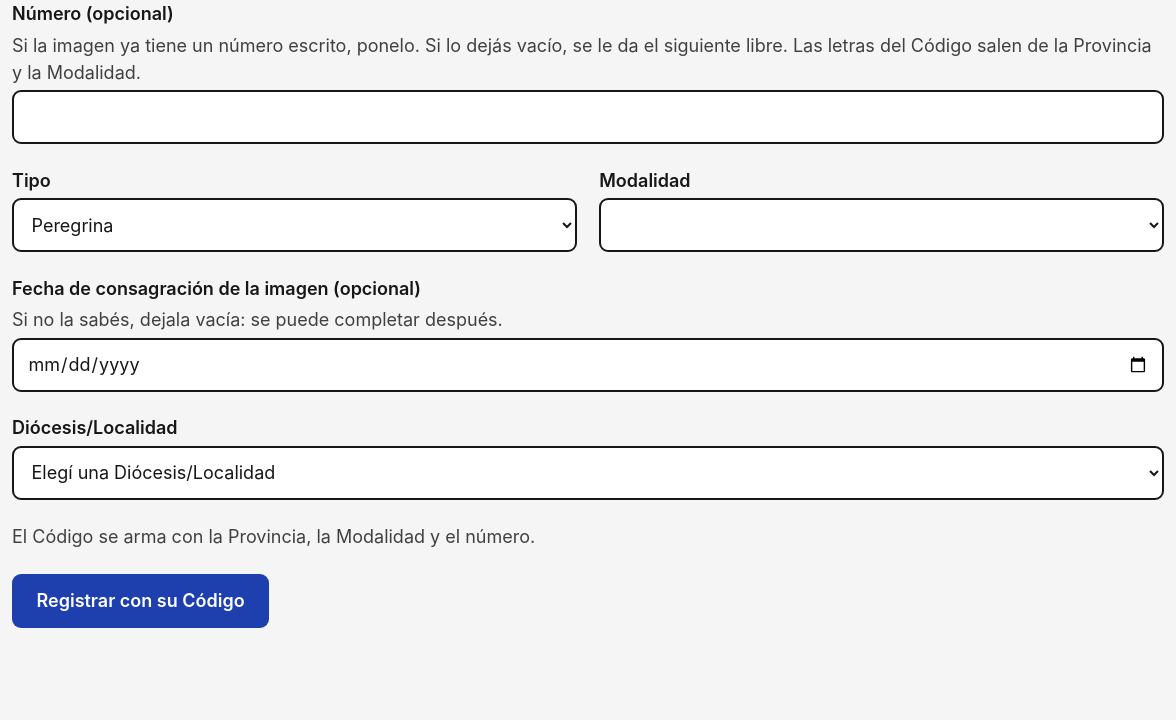
el alta de una imagen nueva › no pide numeración anterior, y sin número no manda ninguno
Select "Villa María" in the dropdown labelled "Diócesis/Localidad" at coordinates (588, 472), box [12,446,1164,500]
(page scrolled)
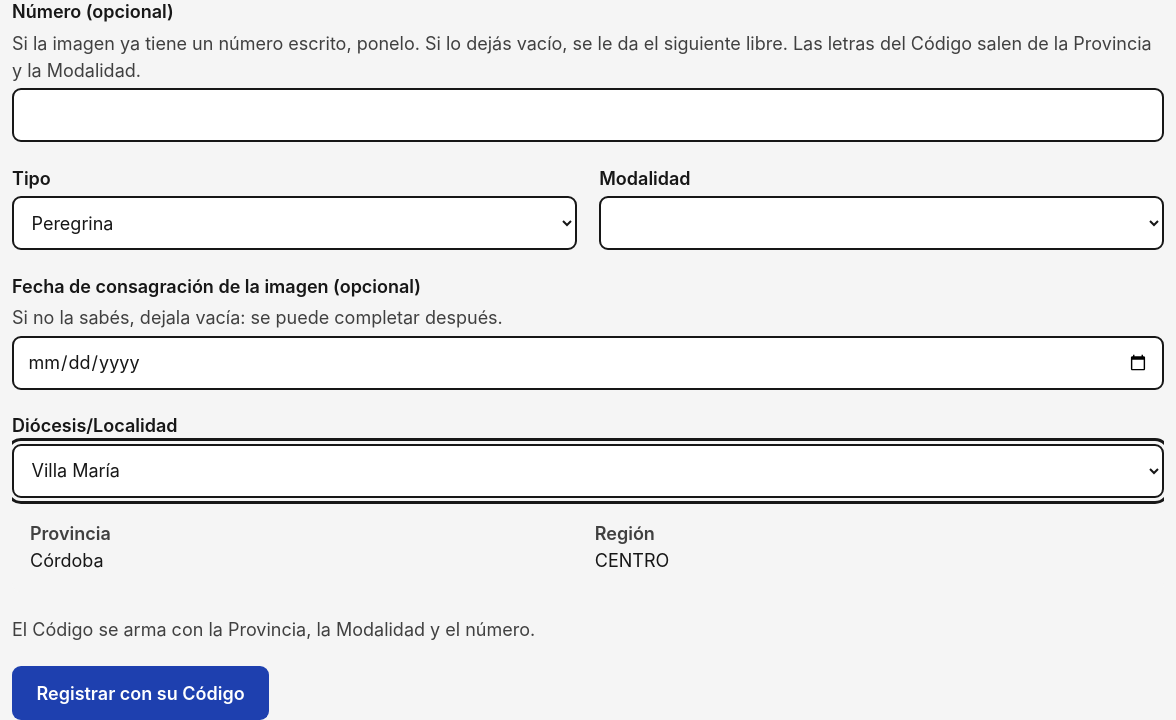
Click the button "Registrar con su Código".
click(141, 693)  # box [12,666,269,719]
(page scrolled)
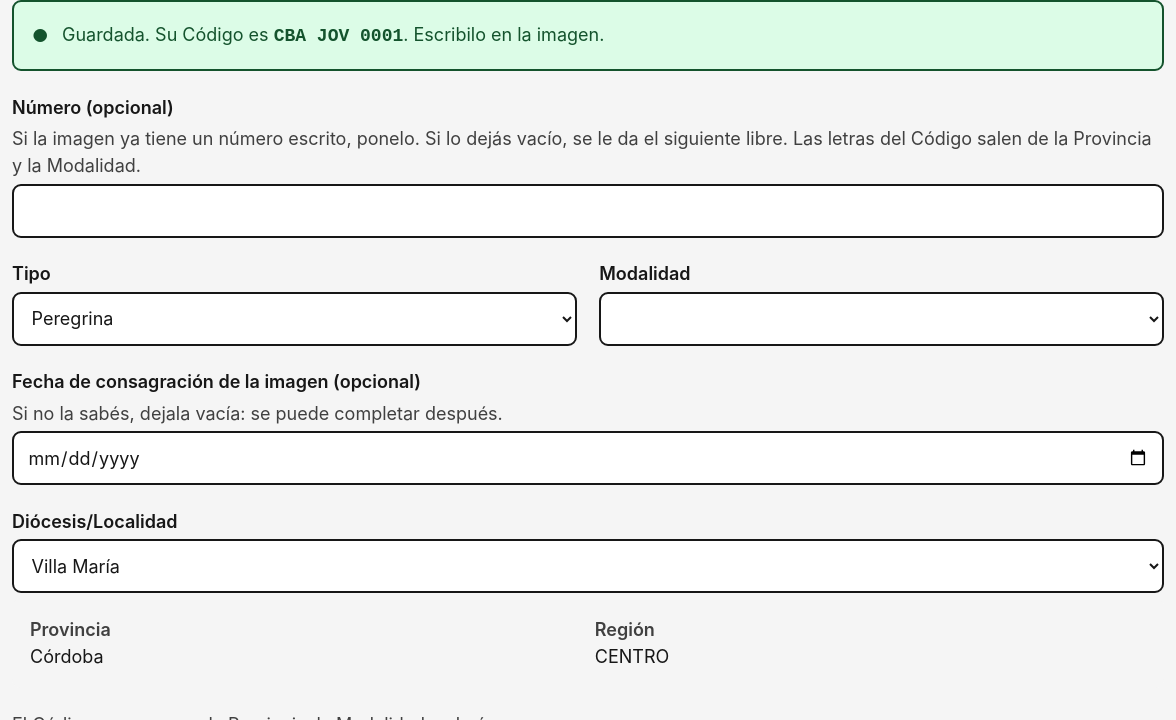
Expected: the text "CBA JOV 0001" is shown, [274,26,403,46]
